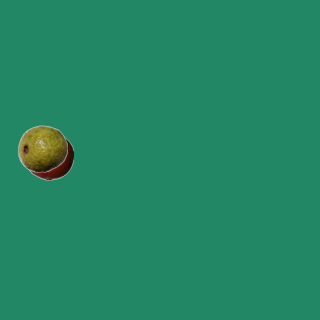Apple Braeburn: (23, 130, 73, 180)
Guava: (17, 123, 67, 173)
